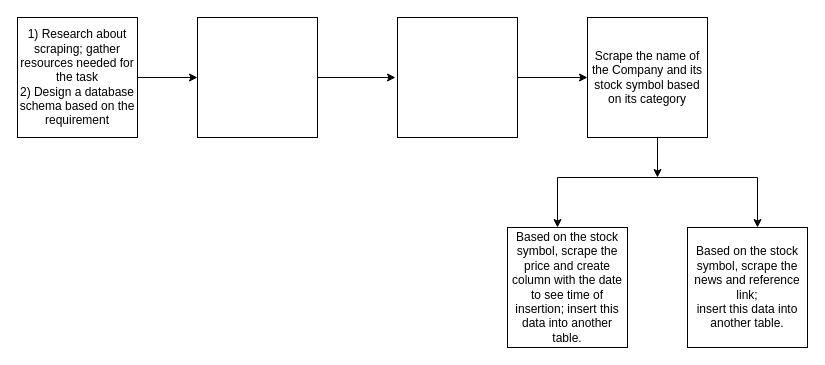
Some shapes in this 825 by 365 pixel diagram are drawn without their labels. The centre of each missing label's shape, as x and y in pixels:
Divide database into tables: (x=257, y=77)
Scrape the data of the company type, say, Information Technology.: (x=457, y=77)
